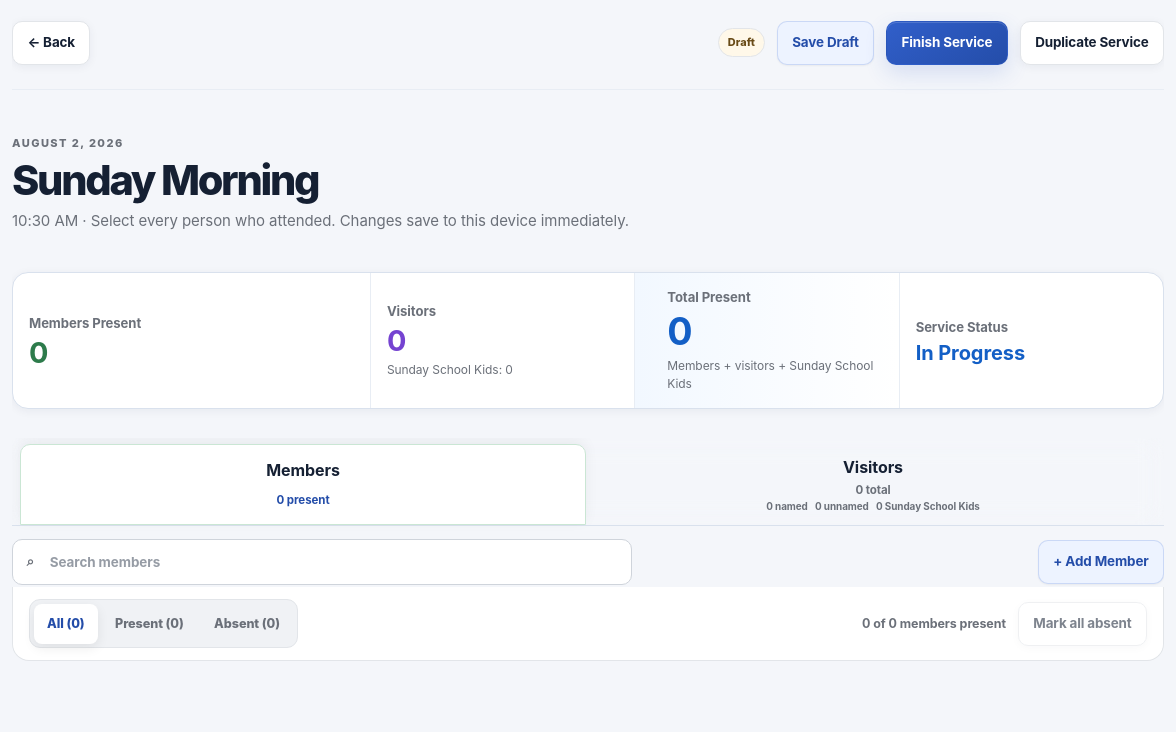
it: service browser navigation › falls back to the Services list when a direct URL has no prior history
The image size is (1176, 732).
What coordinates should you click on to do the following:
click the button "← Back"
I would click on:
 (51, 42)
Its box is [12,20,90,64].
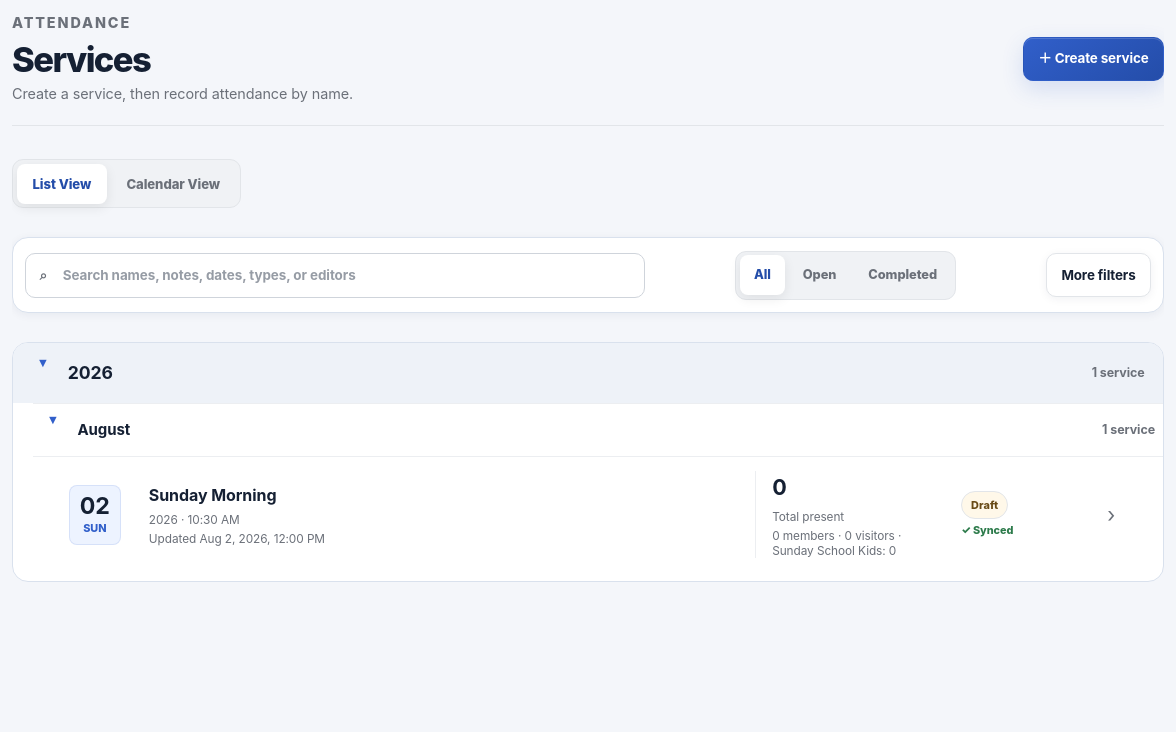
Now the heading "Services" is shown, box [12,38,150,80]
